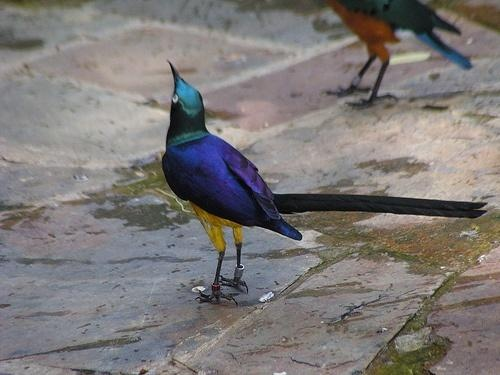bird: (162, 61, 490, 307), (325, 2, 475, 108)
